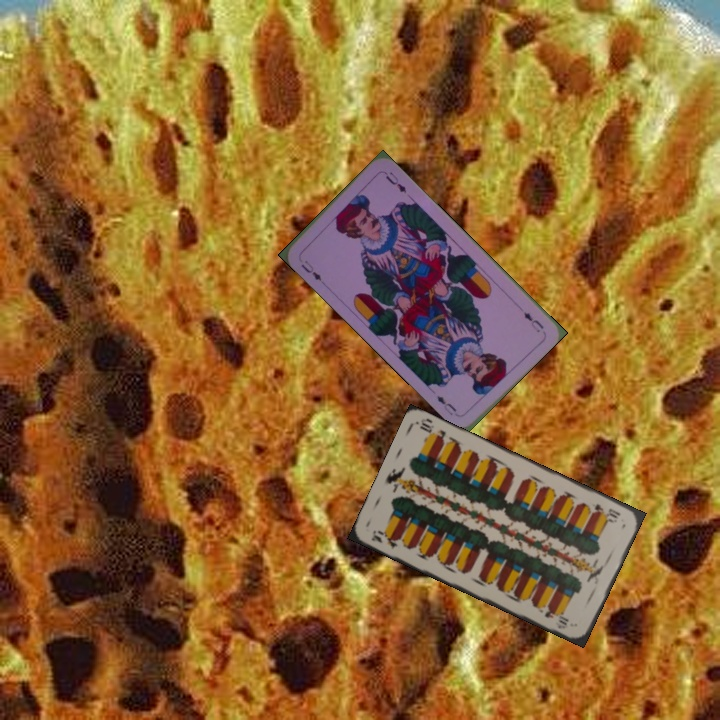E10: (367, 526, 406, 552), (590, 499, 623, 524)
EU: (297, 256, 324, 284), (519, 307, 546, 335)
